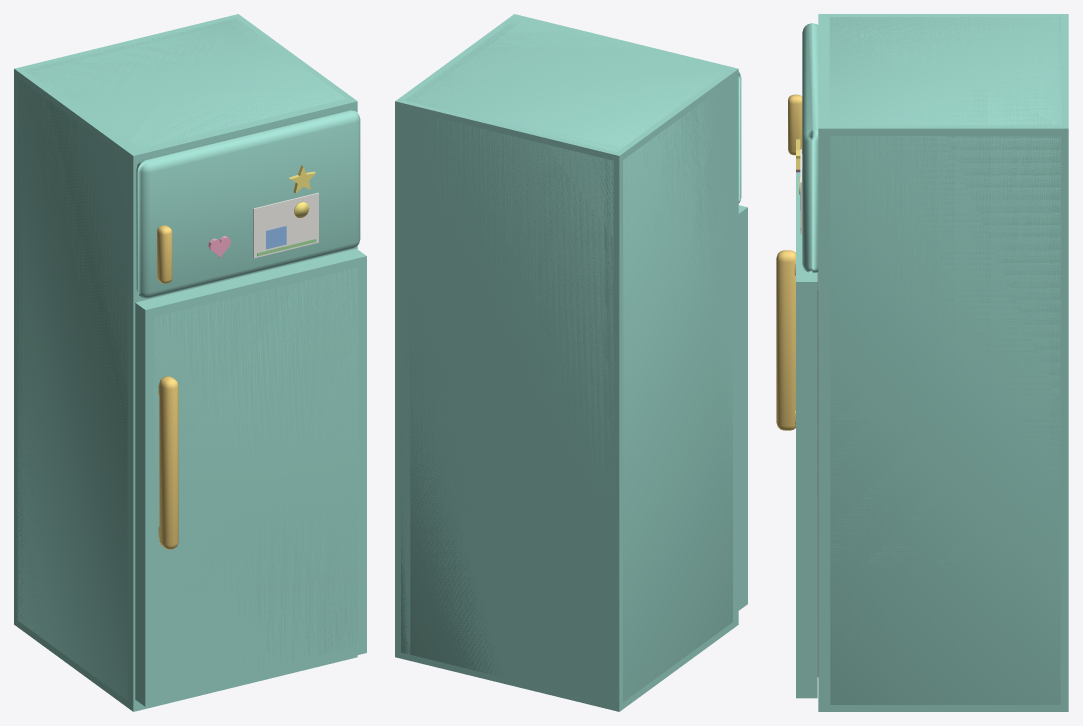
File: sk_fridge.fbx
3 renders of one model, left to right at view 1: azimuth 30°, elevation 25°; view 2: azimuth 150°, elevation 25°; view 3: azimuth 270°, elevation 25°, orthographic. The views are drawn at different scales.
Visible parts, largest first — view 1: COL_Door, Body_Left, Door_Slab, Freezer_Door, COL_Left, Body_Top, COL_Ceiling, COL_Back, Door_Handle, Drawing_Paper, COL_Right, Body_Back (+1 smaller); view 2: COL_Back, Body_Left, Body_Back, COL_Left, Body_Top, COL_Ceiling, COL_Right, COL_Door; view 3: Body_Right, COL_Right, Body_Top, COL_Ceiling, COL_Back, COL_Door, Freezer_Door, Door_Handle, COL_Left, Freezer_Handle, Door_Inner, Body_Back.
Part boxes in pixels (x1,y1,x2,y2): COL_Door: (135, 248, 366, 706); Body_Left: (18, 70, 127, 700); Door_Slab: (154, 268, 357, 674); Freezer_Door: (136, 110, 360, 298); COL_Left: (14, 66, 148, 711); Body_Top: (25, 18, 345, 148); COL_Ceiling: (35, 26, 343, 299); COL_Back: (14, 14, 245, 630); Door_Handle: (159, 376, 178, 549); Drawing_Paper: (253, 192, 318, 258); COL_Right: (227, 14, 357, 660); Body_Back: (17, 18, 235, 620); COL_Back: (395, 95, 627, 711); Body_Left: (612, 71, 732, 701); Body_Back: (401, 100, 623, 702); COL_Left: (604, 65, 738, 711); Body_Top: (405, 21, 726, 151); COL_Ceiling: (417, 17, 724, 144); COL_Right: (395, 14, 527, 660); COL_Door: (738, 205, 747, 610); Body_Right: (830, 136, 1060, 704); COL_Right: (818, 121, 1068, 711); Body_Top: (829, 17, 1061, 125); COL_Ceiling: (818, 20, 1052, 121); COL_Back: (1050, 14, 1068, 711); COL_Door: (796, 169, 817, 698); Freezer_Door: (802, 23, 818, 273); Door_Handle: (776, 250, 795, 430); COL_Left: (818, 14, 1068, 21); Freezer_Handle: (788, 94, 802, 155); Door_Inner: (817, 272, 818, 677); Body_Back: (1059, 17, 1061, 556).
Bounding box in the file's own units: 0.76 × 1.8 × 0.817.
